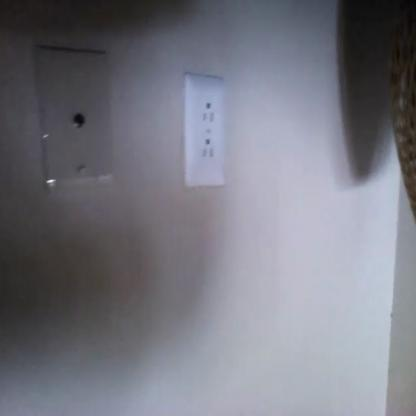OUTLET: (185, 72, 225, 189)
